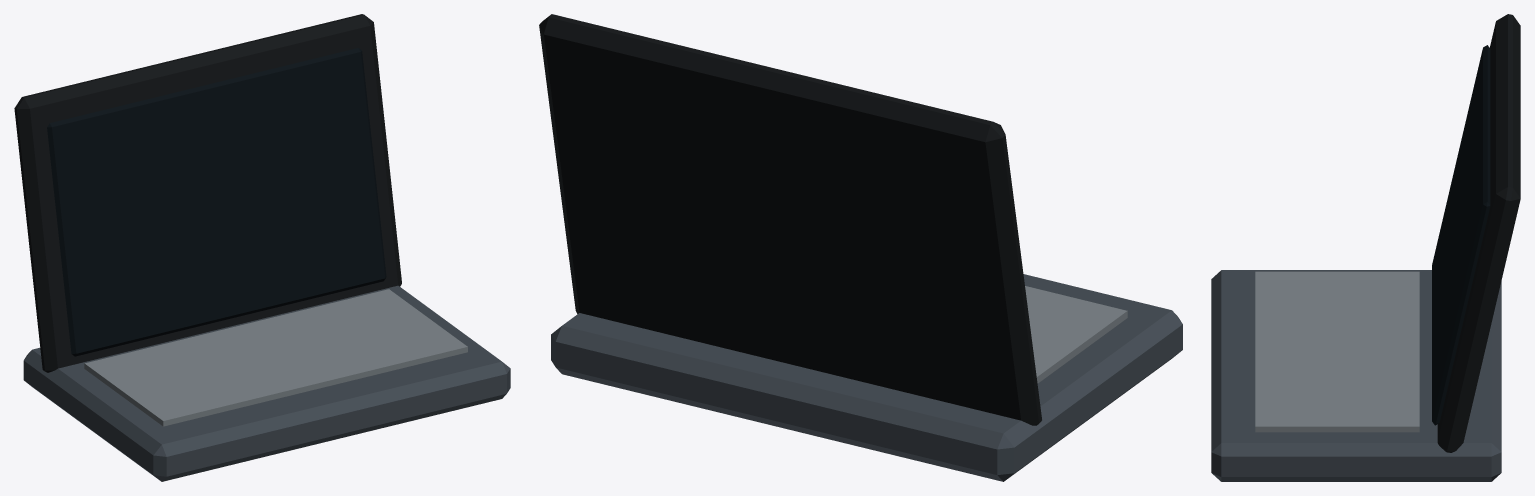
Rendered from Laptop.fbx.
The picture shows the model from 3 angles, left to right: view 1: azimuth 30°, elevation 25°; view 2: azimuth 150°, elevation 25°; view 3: azimuth 270°, elevation 25°; orthographic projection. The views are drawn at different scales.
Visible parts, largest first — view 1: Laptop; view 2: Laptop; view 3: Laptop.
Boxes of the visible parts, x1=… form: Laptop: x1=14, y1=14, x2=510, y2=481; Laptop: x1=539, y1=14, x2=1182, y2=481; Laptop: x1=1211, y1=14, x2=1520, y2=481.
Size of the model in its own units: 34 by 25.78 by 24.51.
Materials: 1 (1 with a texture image).
